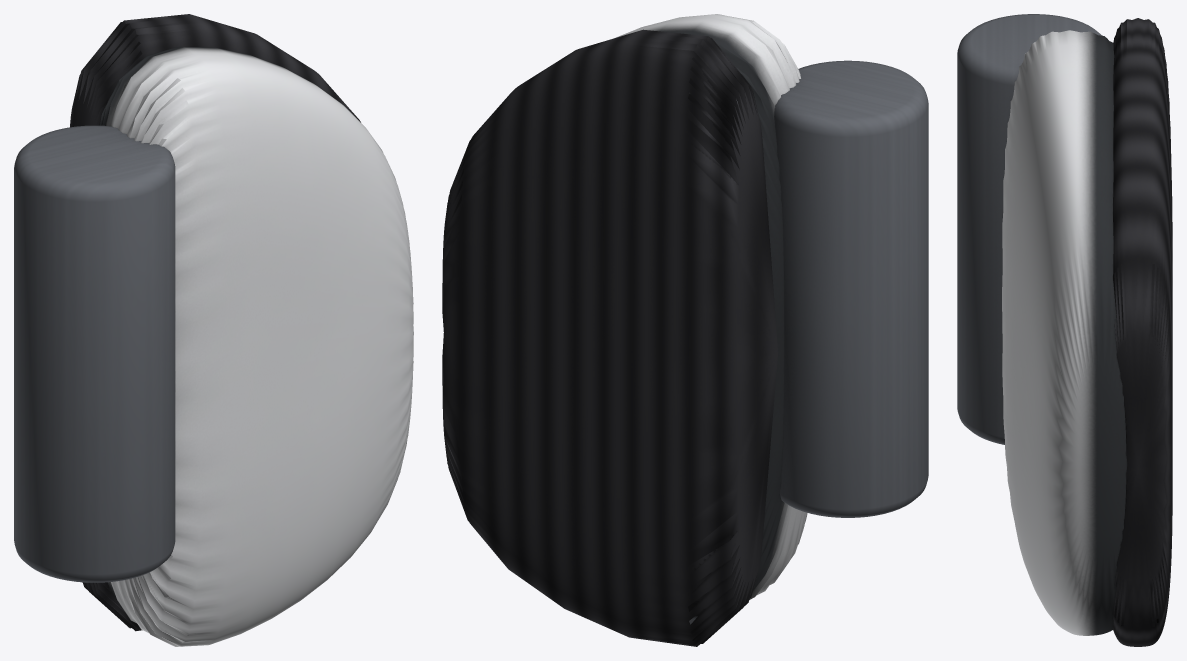
Rendered from left_toe.obj.
The picture shows the model from 3 angles, left to right: view 1: azimuth 30°, elevation 25°; view 2: azimuth 150°, elevation 25°; view 3: azimuth 270°, elevation 25°; orthographic projection. The views are drawn at different scales.
Parts seen in each view (by area): view 1: left_toe; view 2: left_toe; view 3: left_toe.
Part boxes in pixels (x1=…): left_toe: x1=14, y1=14, x2=413, y2=646; left_toe: x1=442, y1=14, x2=928, y2=646; left_toe: x1=957, y1=14, x2=1172, y2=646.
Bounding box in the file's own units: 0.0659 × 0.092 × 0.031.
1 material, 1 textured.
